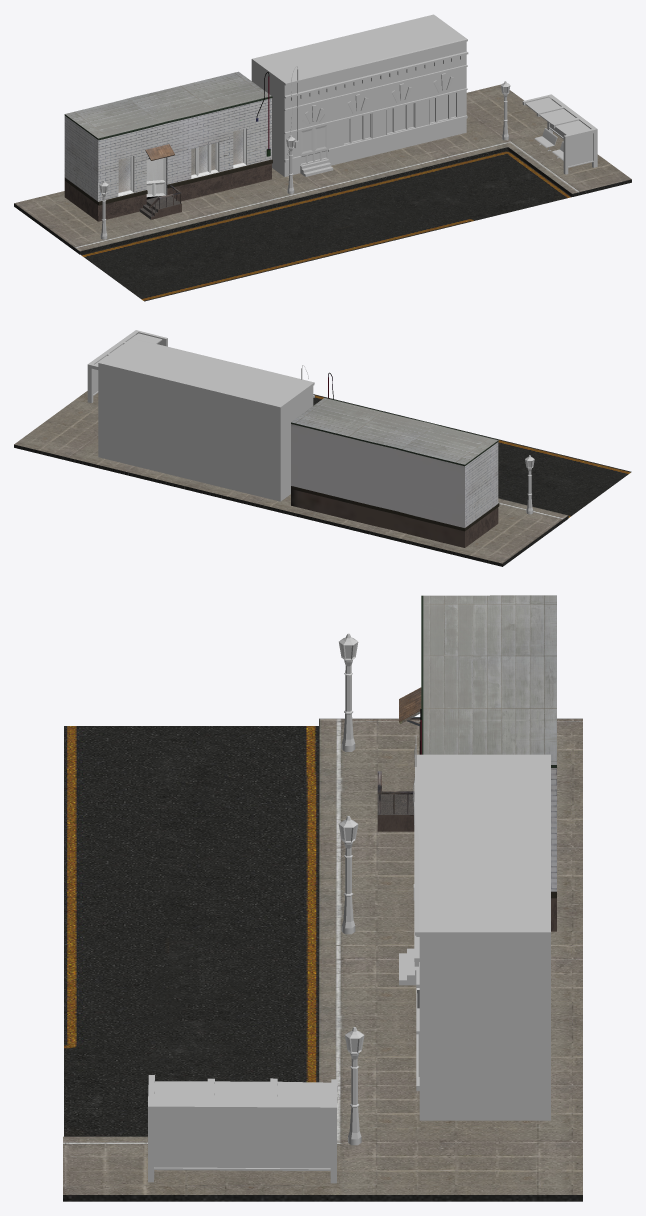
File: calle.fbx
3 renders of one model, top to bottom at view 1: azimuth 30°, elevation 25°; view 2: azimuth 150°, elevation 25°; view 3: azimuth 270°, elevation 25°, orthographic. The views are drawn at different scales.
Visible parts, largest first — view 1: Box021, Box019, casa1, Box020; view 2: Box019, casa1, Box021, Box020; view 3: Box021, Box019, casa1, Box020.
Boxes of the visible parts, x1,y1,x2,y2 form: Box021: (14,84,631,301); Box019: (251,14,468,176); casa1: (64,71,272,221); Box020: (99,81,597,239); Box019: (98,338,314,501); casa1: (291,372,499,547); Box021: (14,391,631,566); Box020: (87,330,534,514); Box021: (63,718,582,1201); Box019: (399,735,550,1120); casa1: (377,595,556,931); Box020: (148,633,364,1183).
Bounding box in the file's own units: 132 × 29.14 × 61.
